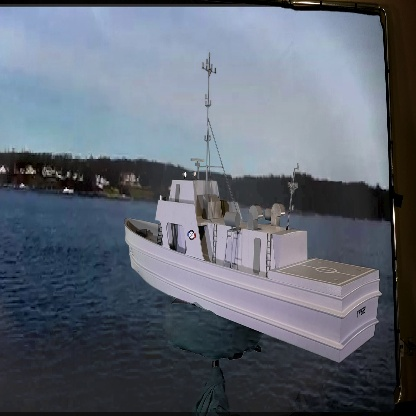YP689: (125, 53, 382, 365)
